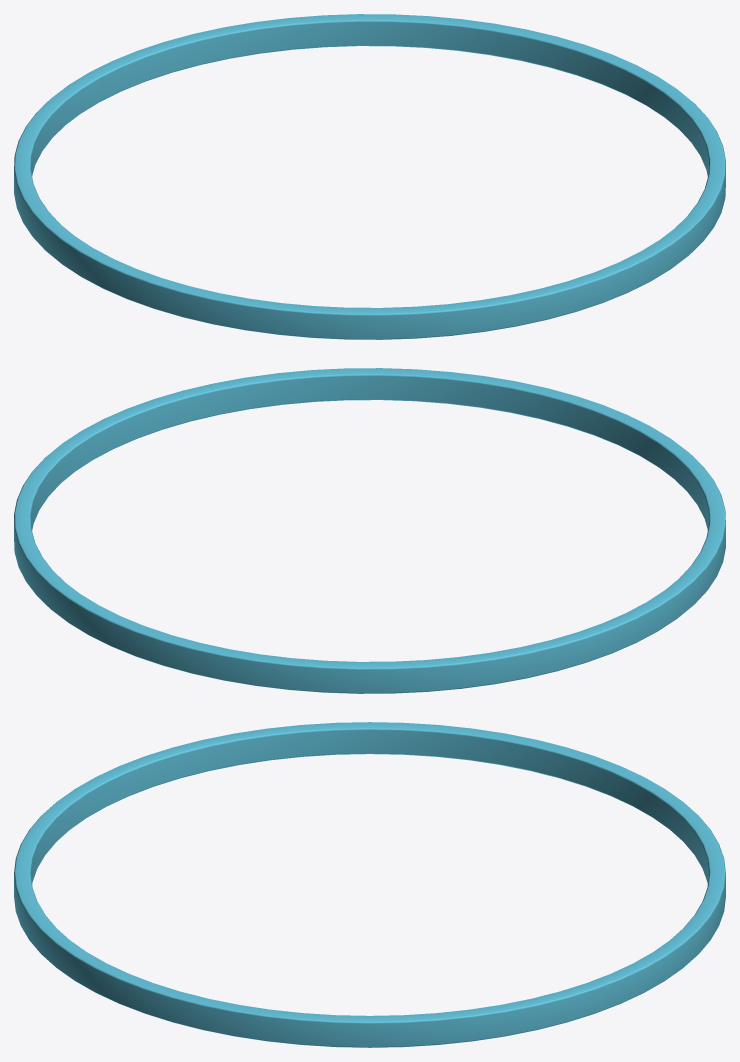
3 views of the same model, one above another, from view 1: azimuth 30°, elevation 25°; view 2: azimuth 150°, elevation 25°; view 3: azimuth 270°, elevation 25° (orthographic).
Visible parts, largest first — view 1: seal_body; view 2: seal_body; view 3: seal_body.
Part boxes in pixels (bbox=[...]): seal_body: bbox=[14, 14, 725, 339]; seal_body: bbox=[14, 368, 725, 693]; seal_body: bbox=[14, 722, 725, 1047].
Size of the model in its own units: 0.1963 by 0.008 by 0.1963.
